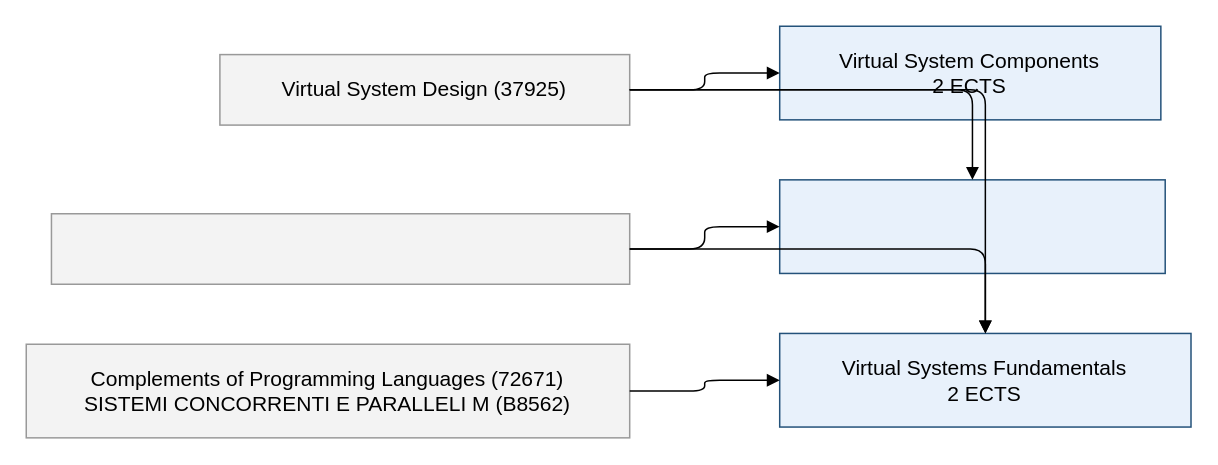
The diagram is 1218 pixels wide and 465 high, and some of its shapes have lost their labels. The centre of each missing label's shape, as x and y in pixels:
Virtual Systems Networking 2 ECTS: the point at 971,225
Virtualization and System Integration (96642): the point at 340,248
